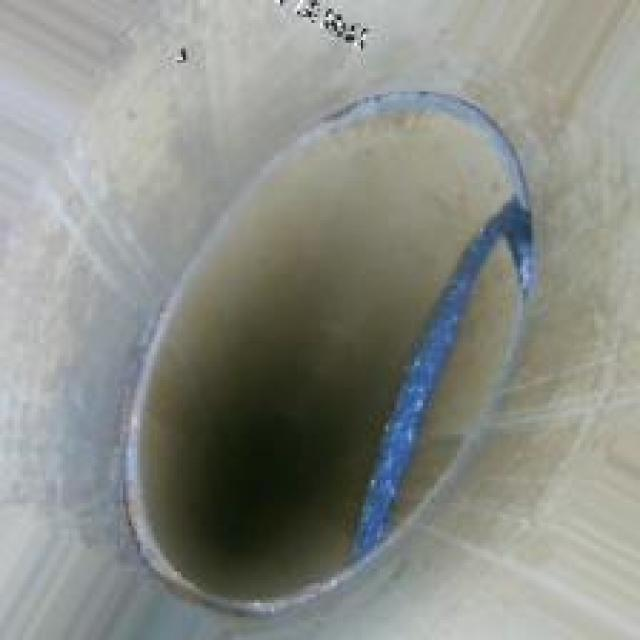joint: (100, 74, 537, 617)
